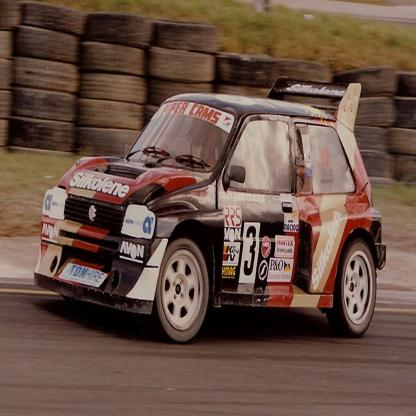Car: (35, 77, 387, 346)
